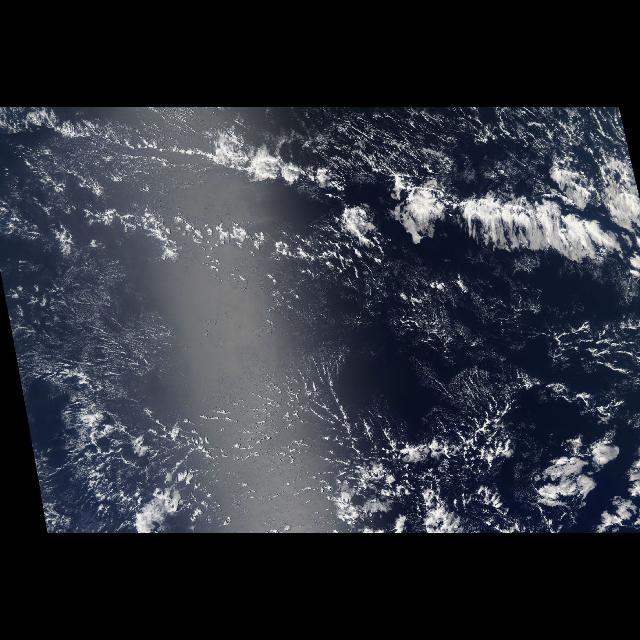Flower: (330, 390, 640, 532)
Gravel: (366, 262, 640, 396)
Sugar: (2, 255, 230, 407)
